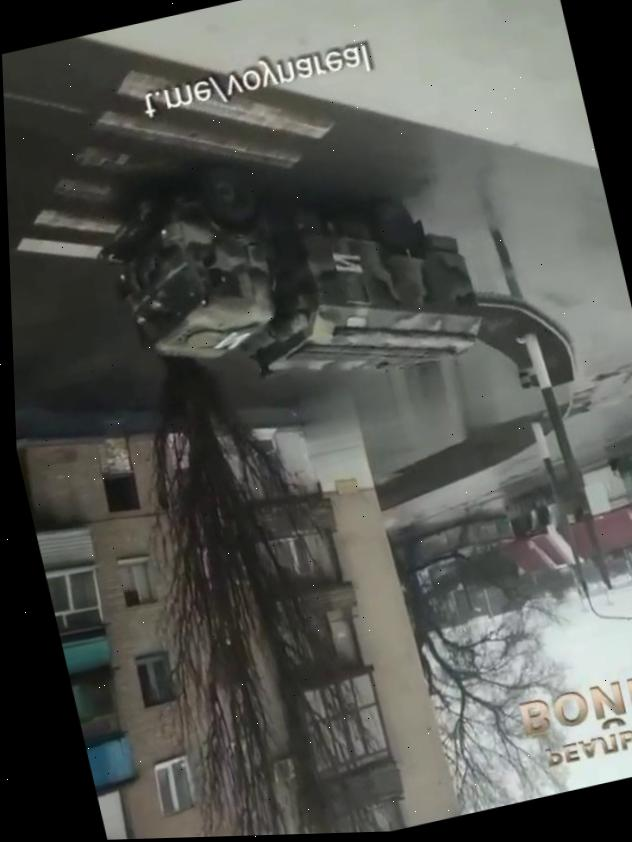truck: (84, 114, 500, 434)
